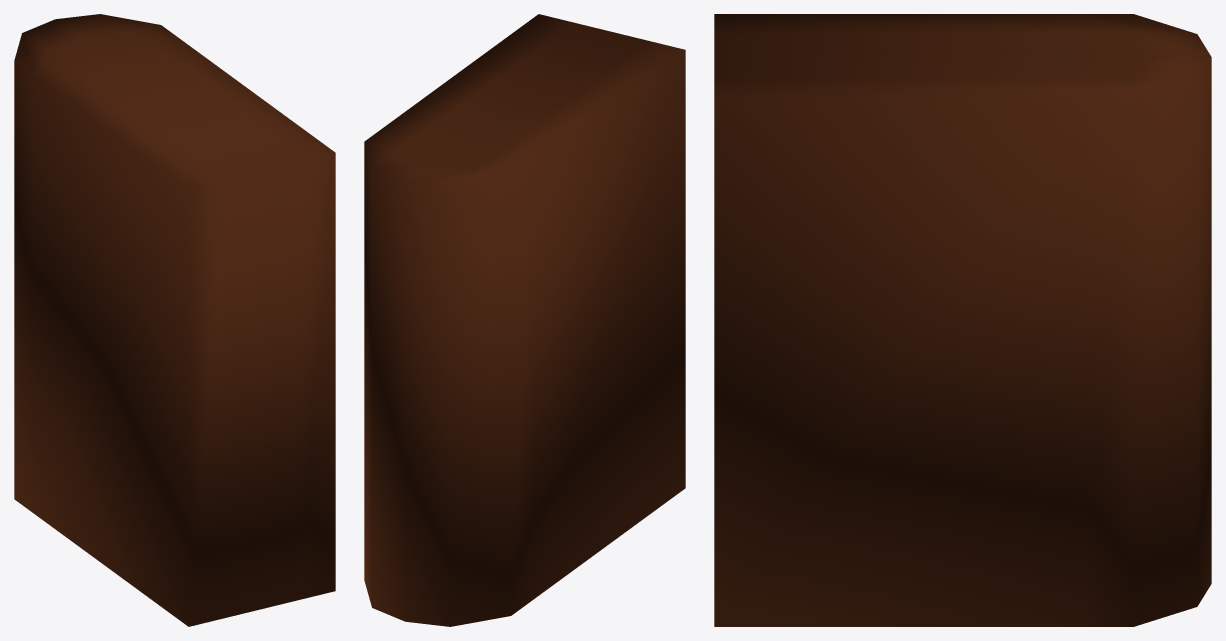
Rendered from BookBase.glb.
3 renders of one model, left to right at view 1: azimuth 30°, elevation 25°; view 2: azimuth 150°, elevation 25°; view 3: azimuth 270°, elevation 25°, orthographic. The views are drawn at different scales.
Parts seen in each view (by area): view 1: Plane; view 2: Plane; view 3: Plane.
Boxes of the visible parts, x1,y1,x2,y2 form: Plane: (14,14,335,626); Plane: (364,14,685,626); Plane: (714,14,1211,626).
Size of the model in its own units: 1.73 by 4.92 by 4.21.
